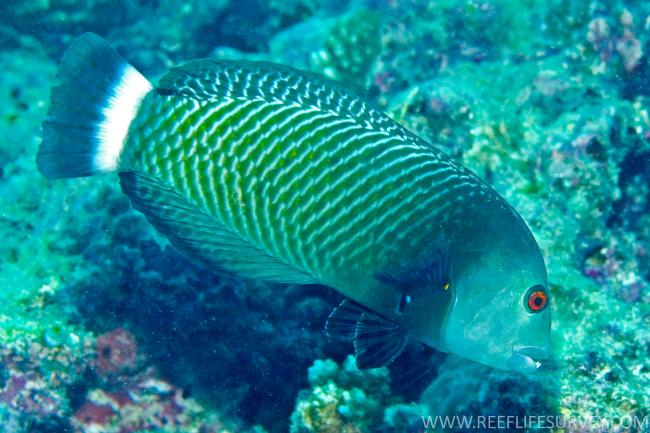fish: (36, 31, 553, 371)
